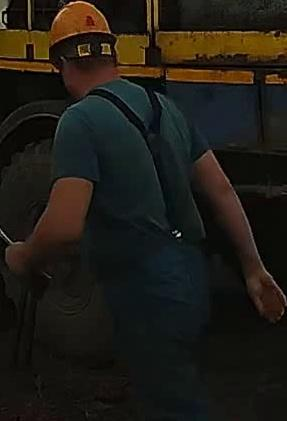helmet: (46, 0, 116, 76)
